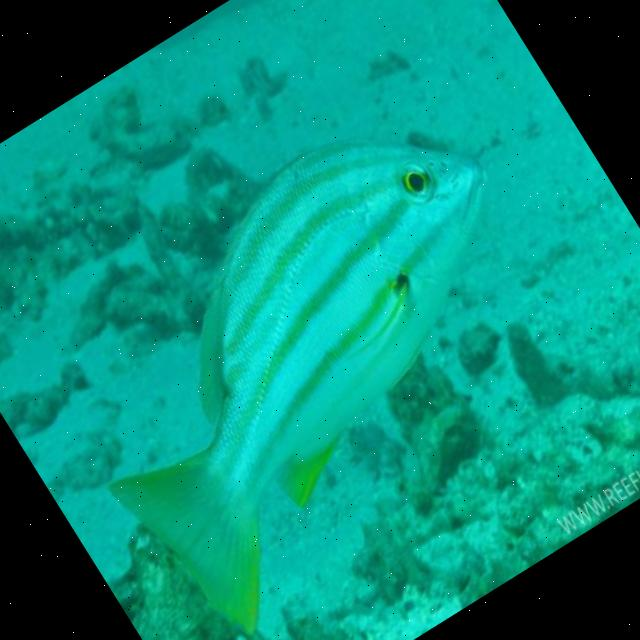ikan: (8, 71, 630, 640)
